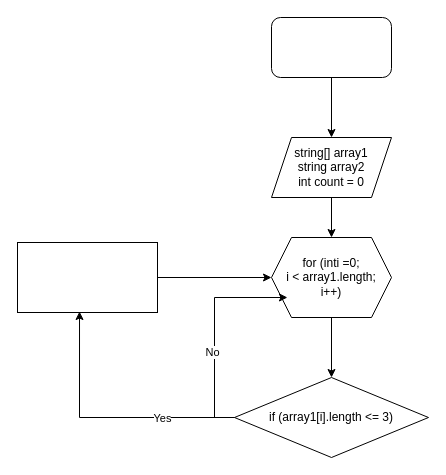
Image size: 446x475. Some labels were removed from this diagram. Here are the shapes that lost their labels. From the top down, the centre of each, then its label:
At pixel 331 47: "SecondArrayWithlf".
At pixel 87 277: "array2[count]= array1[i] count++;".
